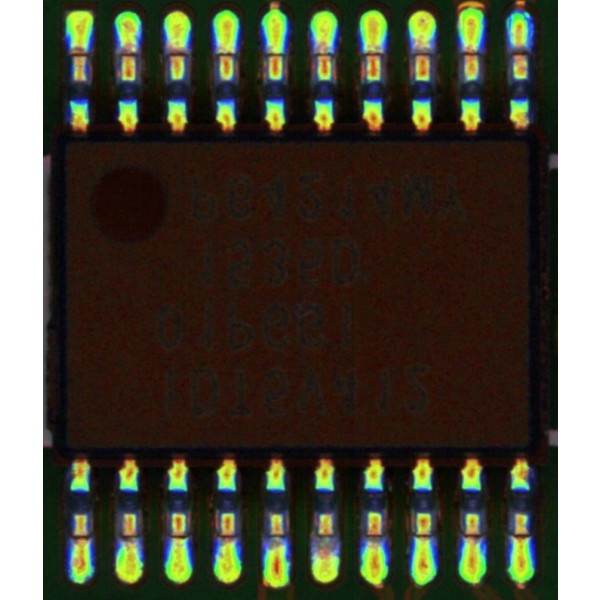Bad_podu: (74, 528, 89, 555), (219, 525, 234, 549), (369, 526, 381, 555), (515, 35, 526, 66), (124, 527, 135, 557), (171, 40, 185, 63), (416, 527, 429, 550), (173, 525, 185, 547), (123, 42, 135, 64), (513, 530, 529, 546), (465, 43, 479, 60), (467, 528, 480, 545), (73, 44, 85, 62), (319, 44, 331, 61)
